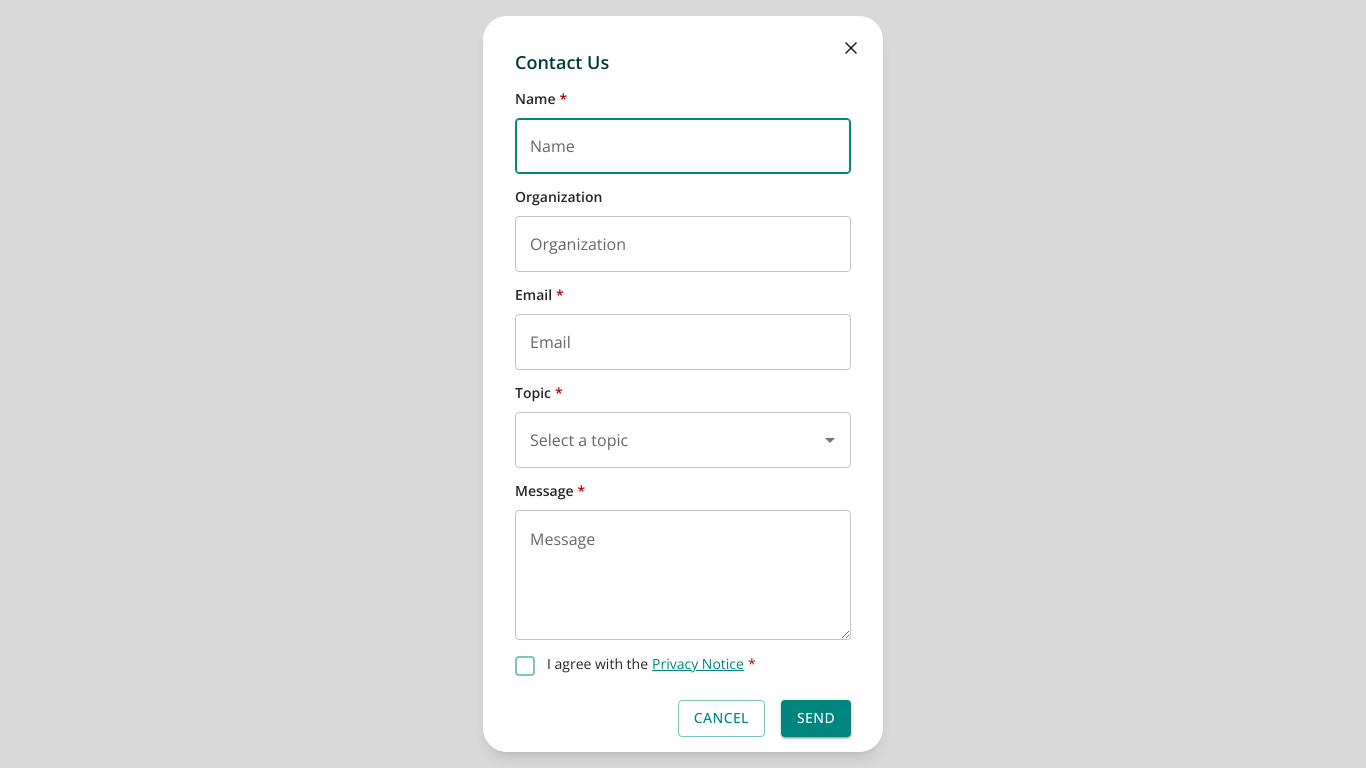
Scenario: ContactForm › sends the message
Type "Ana" into the field labelled "Name *" at point(683, 146), box [515,118,851,174]
Type "ana@example.org" into the field labelled "Email *" at point(683, 342), box [515,314,851,370]
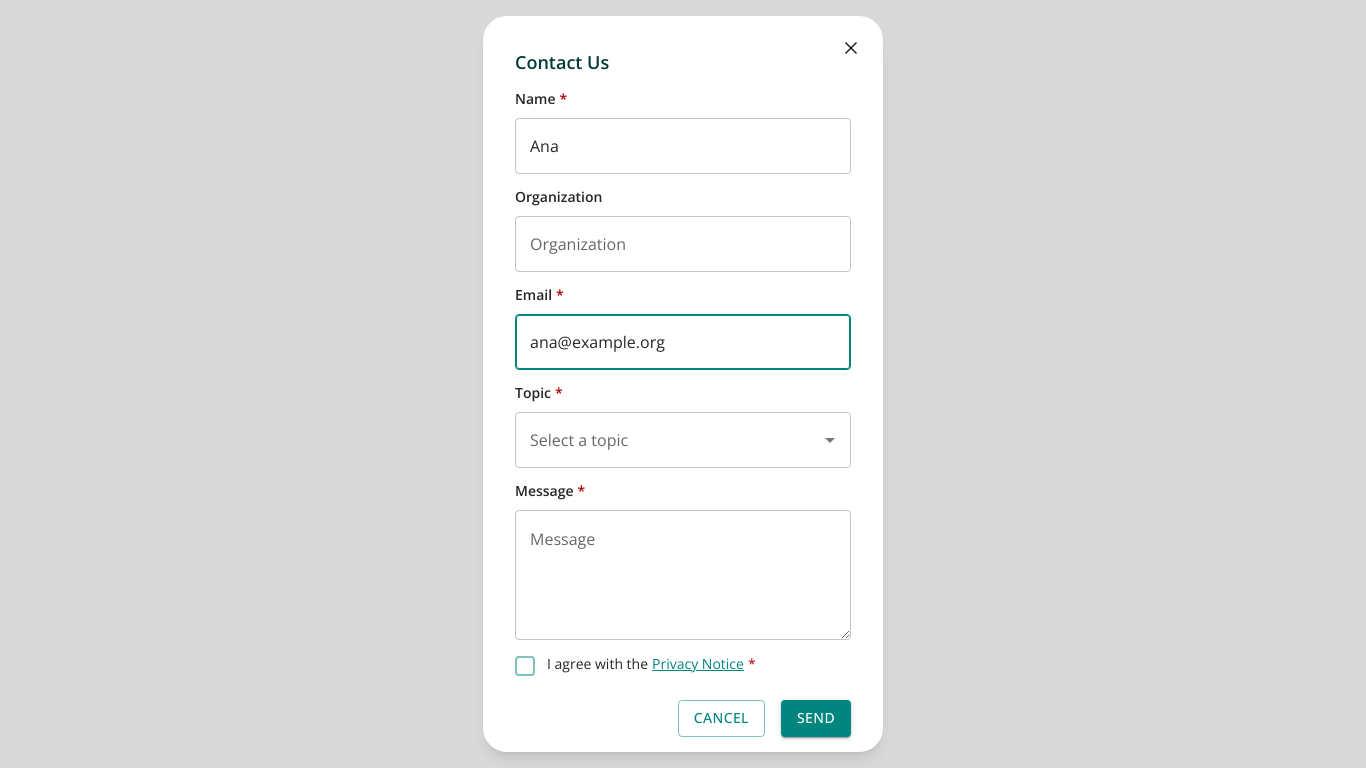
Click the dropdown labelled "Select a topic" at point(579, 440), box [515,412,851,468]
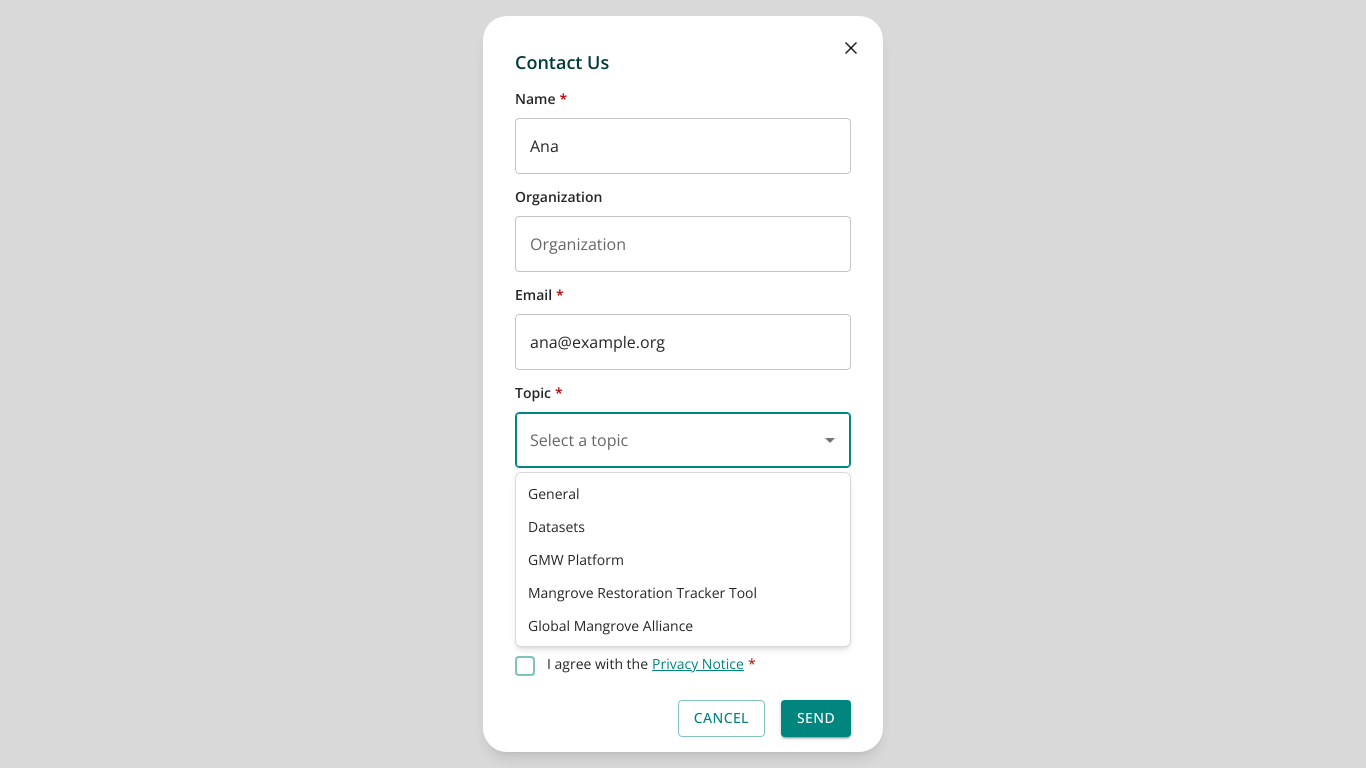
Click the option "Datasets" at point(556, 526), box [528,517,585,536]
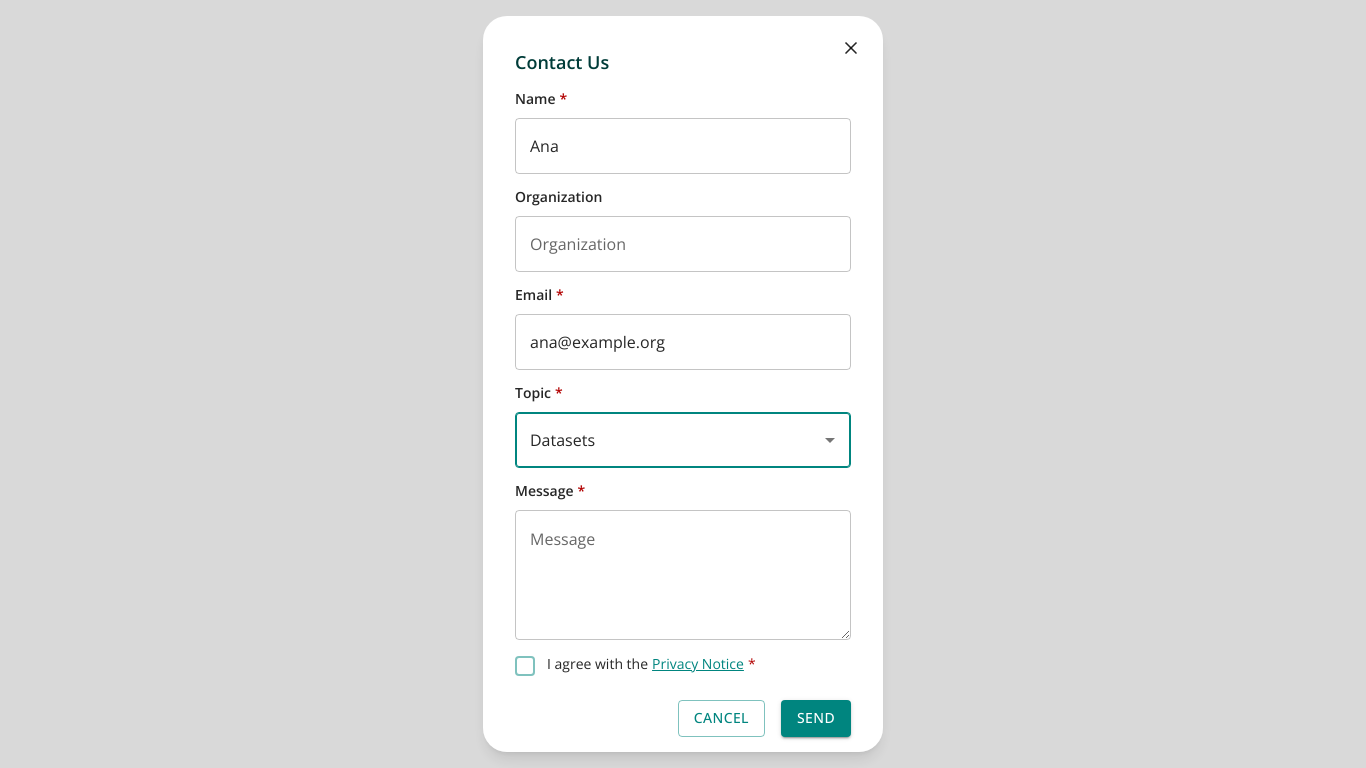
Type "Hello there" into the text box labelled "Message *" at point(683, 575), box [515,510,851,640]
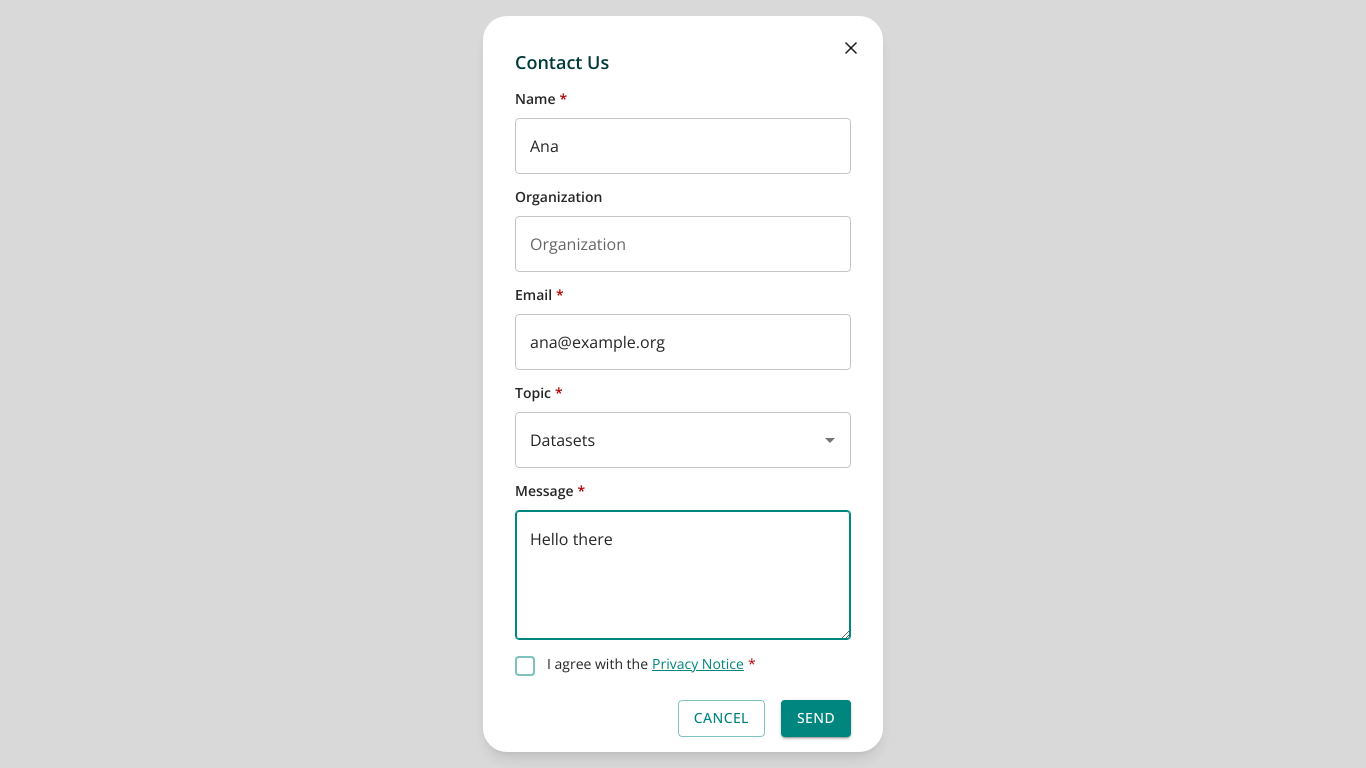
Click the 1st checkbox at point(525, 666), box [515,656,535,676]
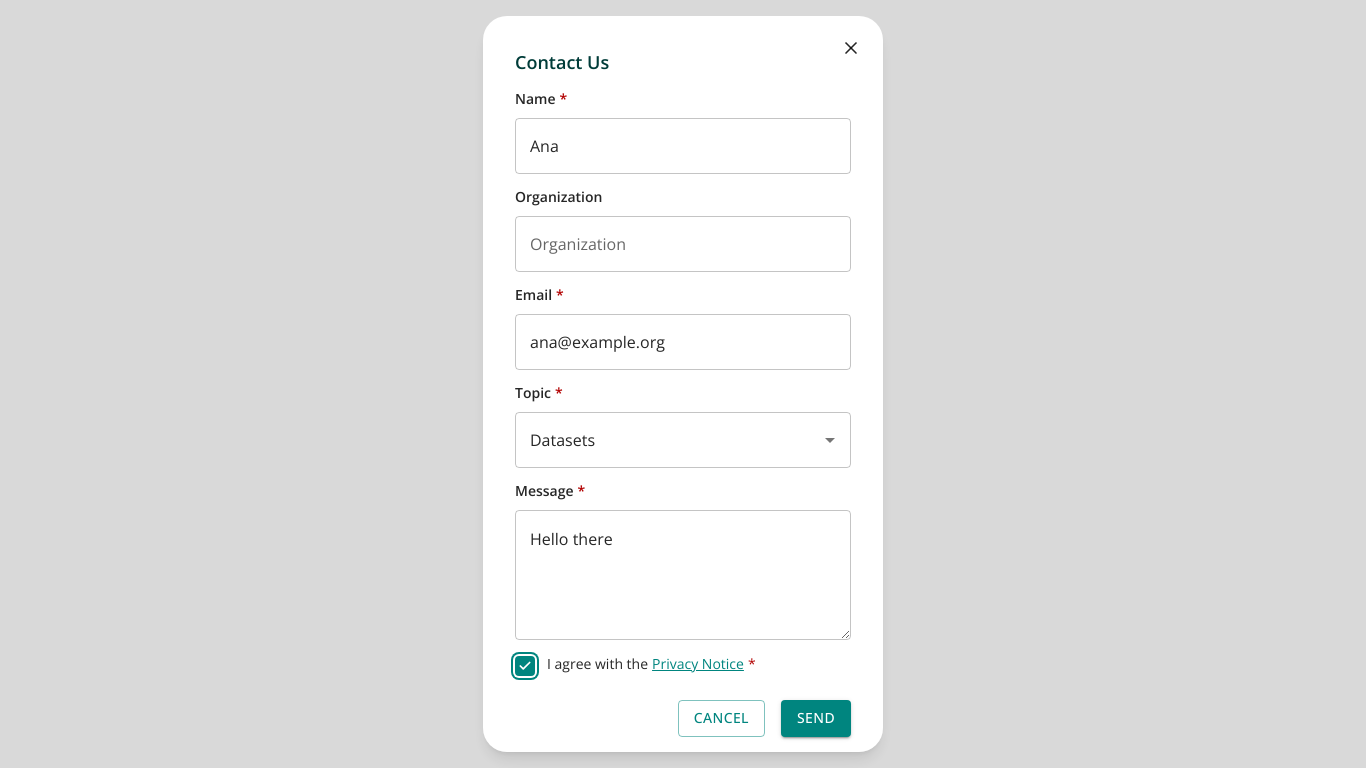
Click the button "Send" at point(816, 718), box [781,700,851,736]
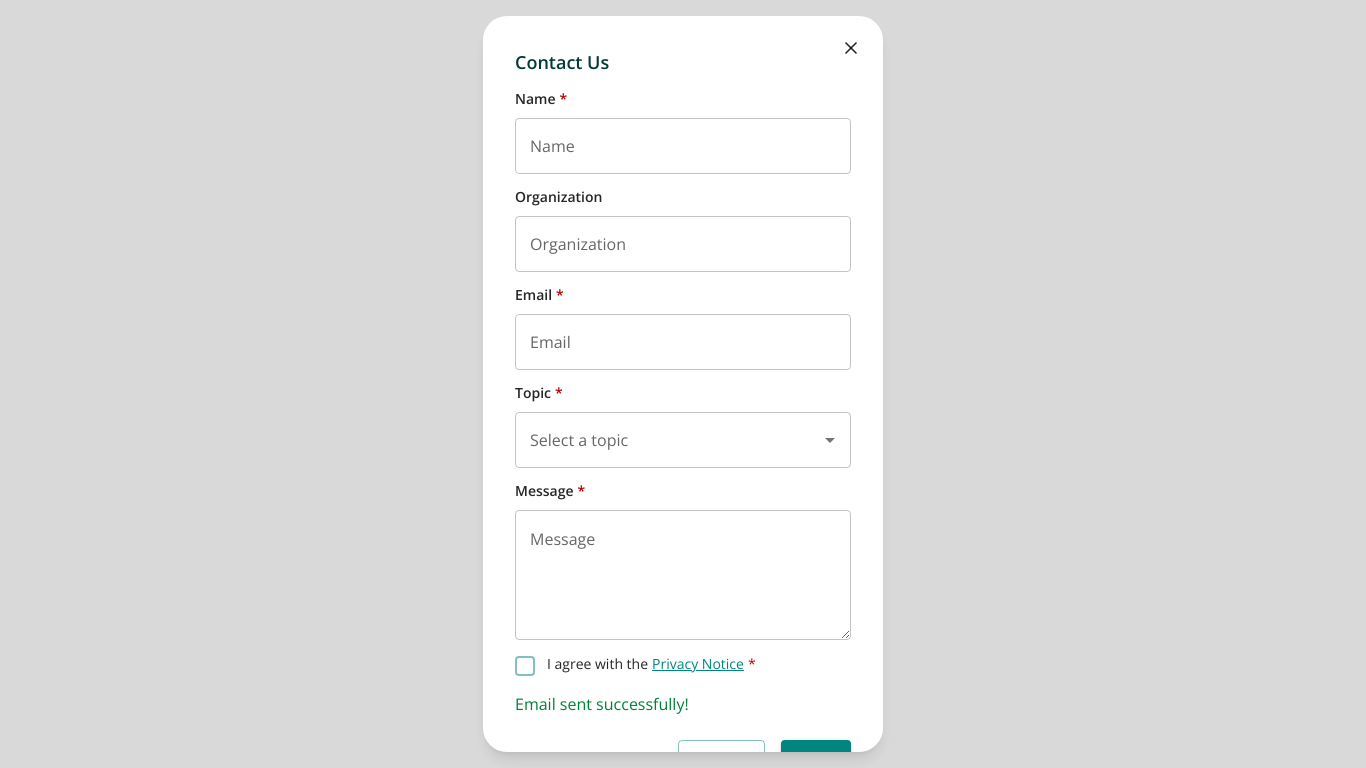
Expected: the text "Email sent successfully!" is shown, [515,693,689,715]
